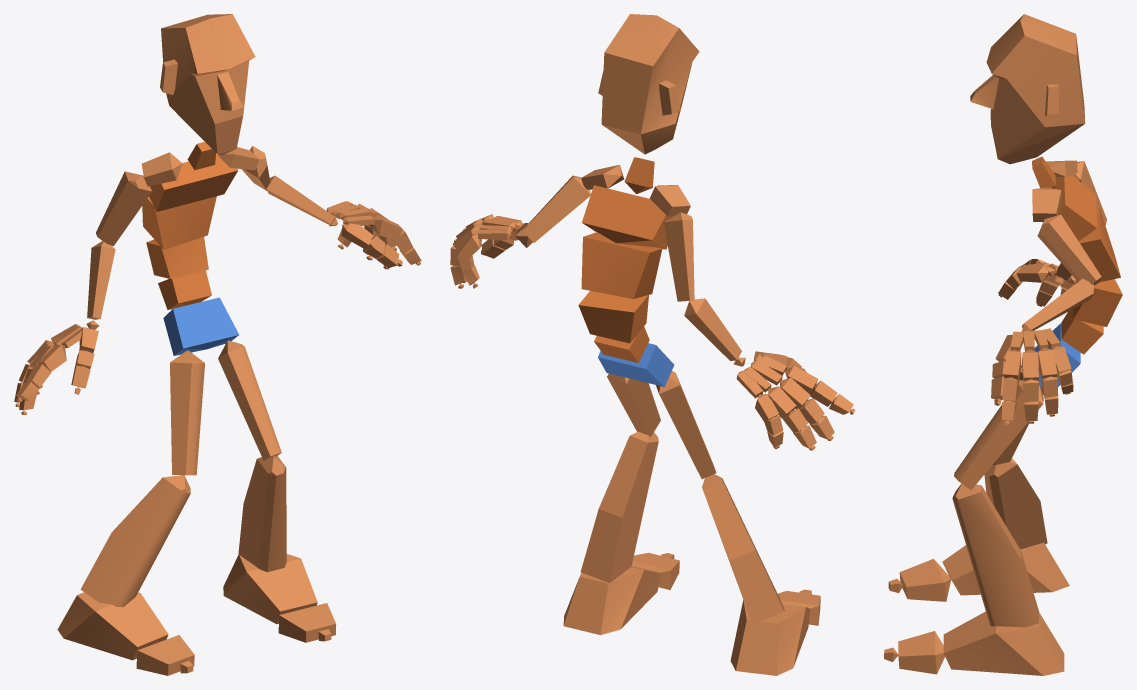
File: prueba190.obj
3 views of the same model, side by side, from view 1: azimuth 30°, elevation 25°; view 2: azimuth 150°, elevation 25°; view 3: azimuth 270°, elevation 25° (orthographic). The views are drawn at different scales.
Parts seen in each view (by area): view 1: BOPED_Head, BOPED_R_leg, BOPED_R_foot, BOPED_L_leg, BOPED_R_foot01, BOPED_R_legup, BOPED_L_legup, Bone01, Bone05, Bone04, BOPED_R_arm_upper, Bone03 (+8 smaller); view 2: BOPED_Head, BOPED_L_leg, BOPED_R_leg, BOPED_R_foot01, BOPED_R_foot, Bone04, Bone05, Bone03, BOPED_R_legup, BOPED_R_arm_upper, BOPED_L_legup, Bone01 (+8 smaller); view 3: BOPED_Head, BOPED_L_leg, BOPED_R_foot01, BOPED_R_leg, BOPED_L_legup, BOPED_R_foot, BOPED_L_arm_upper, Bone05, BOPED_R_foot_toe01, BOPED_R_foot_toe04, Bone03, Bone04 (+12 smaller).
Part boxes in pixels (x1,y1,x2,y2): BOPED_Head: (160,14,255,155); BOPED_R_leg: (80,475,190,607); BOPED_R_foot: (57,592,168,660); BOPED_L_leg: (238,456,286,572); BOPED_R_foot01: (223,554,317,624); BOPED_R_legup: (170,350,204,475); BOPED_L_legup: (218,340,281,460); Bone01: (163,297,239,355); Bone05: (149,154,238,211); Bone04: (142,196,216,249); BOPED_R_arm_upper: (96,171,151,245); Bone03: (146,237,208,278); BOPED_Head: (598,14,699,154); BOPED_L_leg: (580,431,658,583); BOPED_R_leg: (702,474,784,624); BOPED_R_foot01: (563,566,661,634); BOPED_R_foot: (730,600,810,675); Bone04: (581,232,662,298); Bone05: (582,185,673,249); Bone03: (578,291,648,343); BOPED_R_legup: (656,371,716,478); BOPED_R_arm_upper: (663,212,694,301); BOPED_L_legup: (607,373,660,437); Bone01: (598,343,674,386); BOPED_Head: (970,14,1085,164); BOPED_L_leg: (952,483,1039,627); BOPED_R_foot01: (943,611,1064,675); BOPED_R_leg: (984,458,1047,549); BOPED_L_legup: (954,380,1043,489); BOPED_R_foot: (942,542,1069,595); BOPED_L_arm_upper: (1037,214,1101,285); Bone05: (1054,175,1096,241); BOPED_R_foot_toe01: (899,558,951,601); BOPED_R_foot_toe04: (898,631,945,674); Bone03: (1073,279,1122,326); Bone04: (1079,207,1120,282).
Bounding box in the file's own units: 130 × 186 × 65.4.
